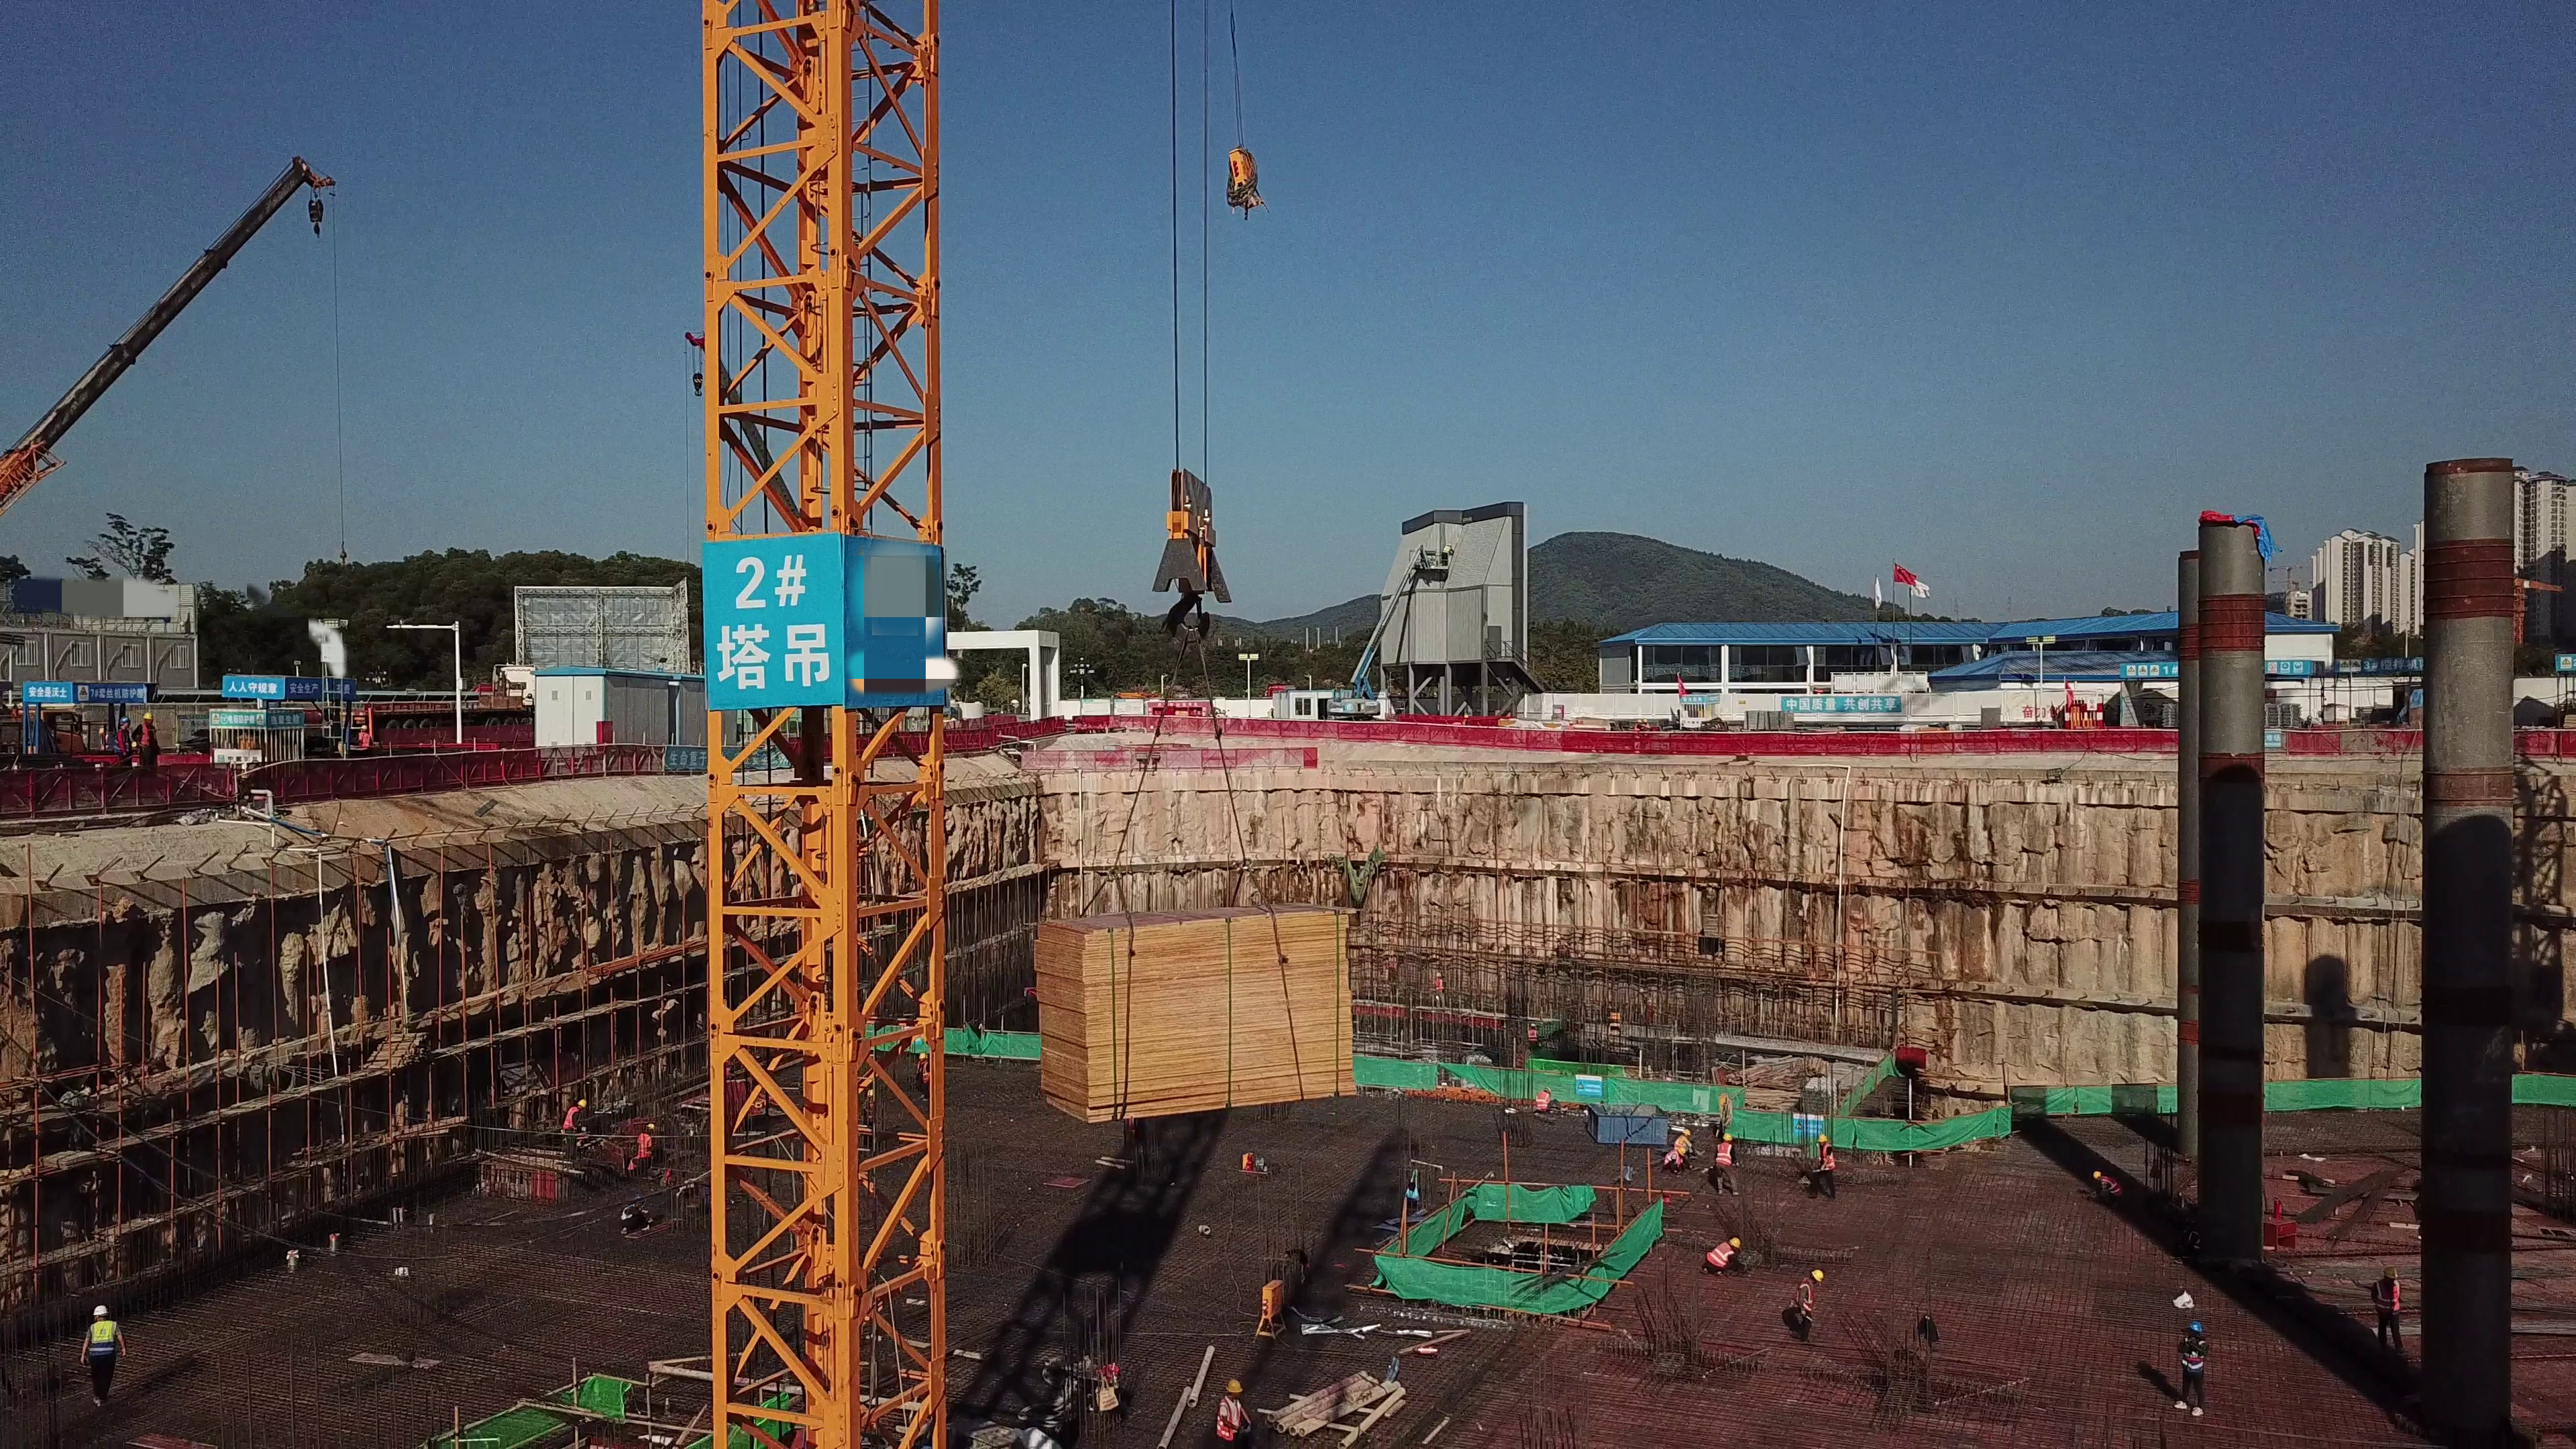helmet: (89, 1304, 113, 1317), (1226, 1379, 1246, 1392), (2186, 1320, 2206, 1334), (1811, 1269, 1825, 1283), (2383, 1265, 2398, 1280), (1729, 1236, 1741, 1249), (864, 1086, 876, 1099), (142, 711, 154, 721), (1815, 1134, 1829, 1143), (1544, 1085, 1553, 1095), (118, 714, 130, 724), (1680, 1128, 1693, 1136), (577, 1099, 588, 1108), (646, 1120, 655, 1130), (1678, 1146, 1688, 1157), (1722, 1133, 1733, 1140), (2093, 1171, 2101, 1179), (917, 1052, 928, 1059), (97, 727, 105, 734), (360, 724, 368, 731), (1636, 719, 1642, 724), (1644, 718, 1648, 724)
person: (80, 1298, 129, 1410), (2175, 1316, 2220, 1424), (2366, 1269, 2412, 1348), (1793, 1265, 1832, 1341), (1811, 1131, 1846, 1205), (1214, 1373, 1250, 1444), (1701, 1233, 1744, 1276), (133, 713, 164, 767), (1715, 1133, 1739, 1202), (2090, 1164, 2127, 1207), (562, 1096, 585, 1163), (633, 1121, 661, 1175), (911, 1047, 932, 1106), (110, 712, 133, 763), (1674, 1126, 1708, 1156), (1533, 1084, 1558, 1118), (1660, 1150, 1689, 1171), (353, 723, 372, 748), (1641, 715, 1650, 735), (1633, 717, 1644, 735)
vest: (89, 1322, 117, 1361), (2375, 1279, 2404, 1315), (1220, 1396, 1242, 1438), (2184, 1336, 2206, 1373), (1703, 1242, 1732, 1269), (1798, 1278, 1815, 1310), (140, 721, 159, 749), (2101, 1176, 2125, 1197), (636, 1134, 653, 1159), (113, 729, 130, 751), (1818, 1145, 1835, 1169), (564, 1106, 578, 1133), (1717, 1143, 1731, 1167), (915, 1062, 928, 1082), (1536, 1091, 1549, 1112), (358, 732, 370, 748), (1662, 1151, 1680, 1164), (1677, 1135, 1687, 1148), (1643, 724, 1650, 731), (1634, 722, 1641, 731)
